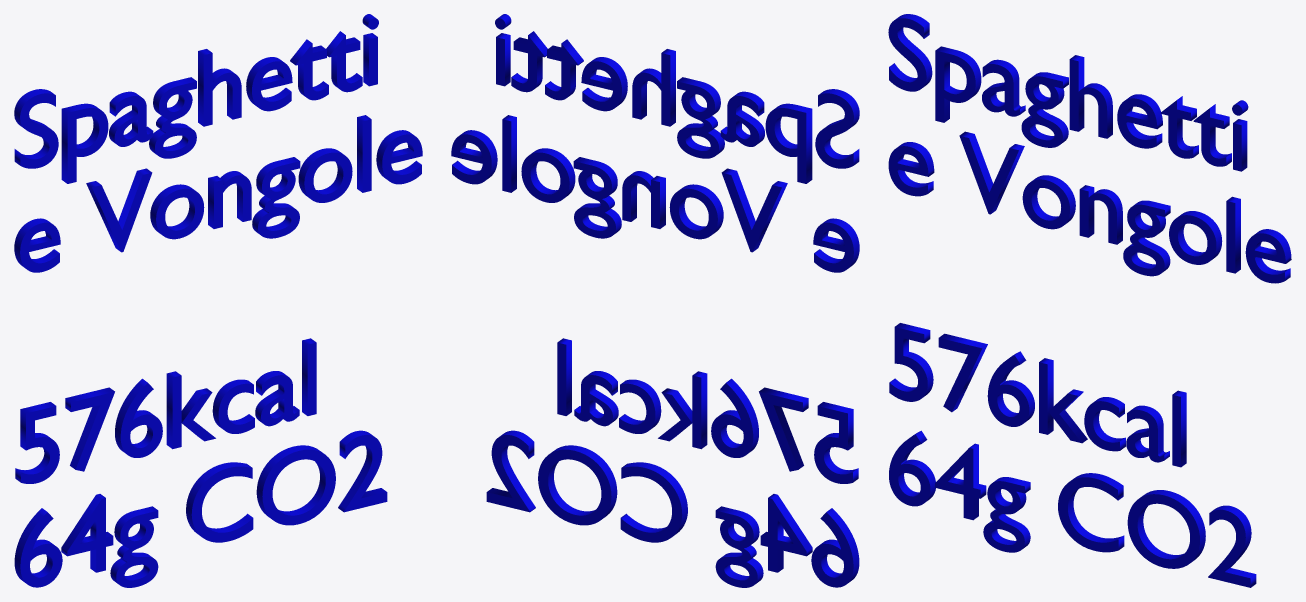
The model's file is spaghetti-vongole-scene.gltf.
The picture shows the model from 3 angles, left to right: view 1: azimuth 30°, elevation 25°; view 2: azimuth 150°, elevation 25°; view 3: azimuth 330°, elevation 25°; orthographic projection.
Parts seen in each view (by area): view 1: Text; view 2: Text; view 3: Text.
Part boxes in pixels (box(x1,y1,x2,y2)): Text: box(14, 14, 422, 587); Text: box(451, 14, 859, 587); Text: box(888, 14, 1291, 587).
Size of the model in its own units: 4.02 by 4.92 by 0.1.
